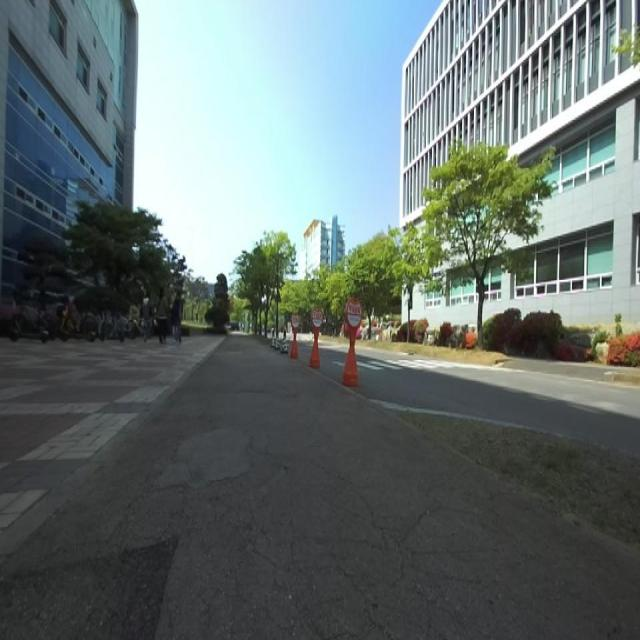sidewalk: (0, 337, 640, 639), (1, 336, 223, 560)
